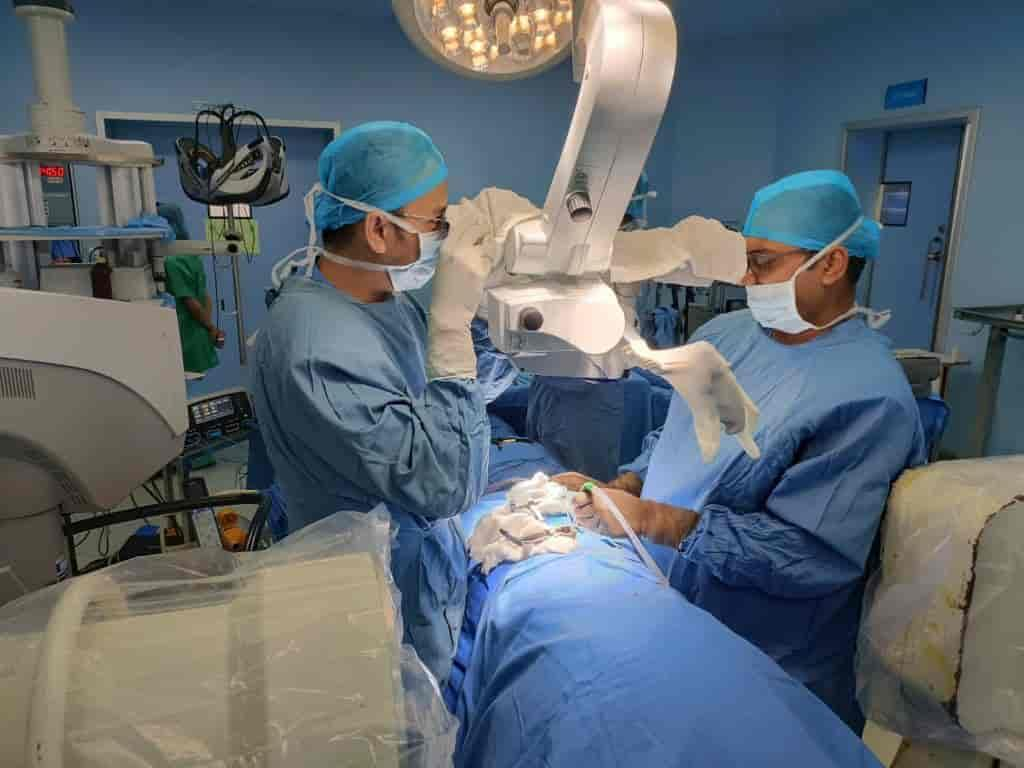Light: (392, 4, 588, 92)
